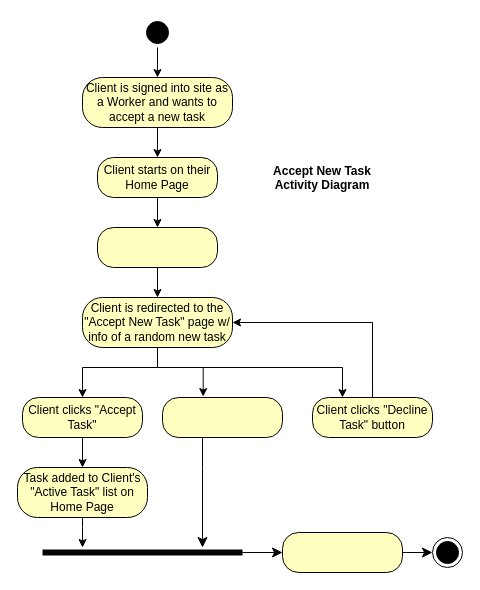
The diagram is 480 pixels wide and 590 high, and some of its shapes have lost their labels. Each missing label, with the box of its shape:
Client clicks "Accept New Task" button: (96, 226, 218, 268)
Client clicks "Return to Home" button link: (162, 396, 282, 438)
Client redirected to Home Page: (282, 532, 402, 572)
